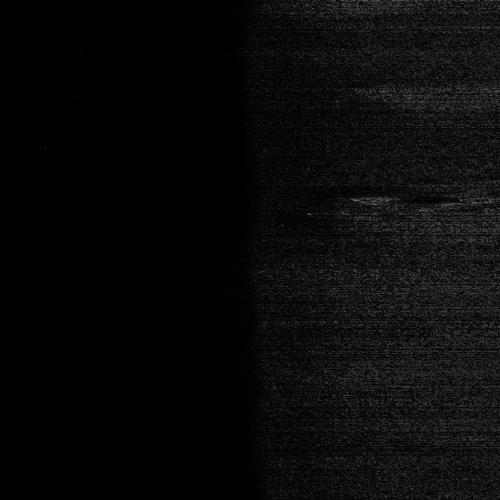rock: (345, 189, 408, 198), (491, 194, 500, 199)
shadow: (377, 189, 477, 198)
